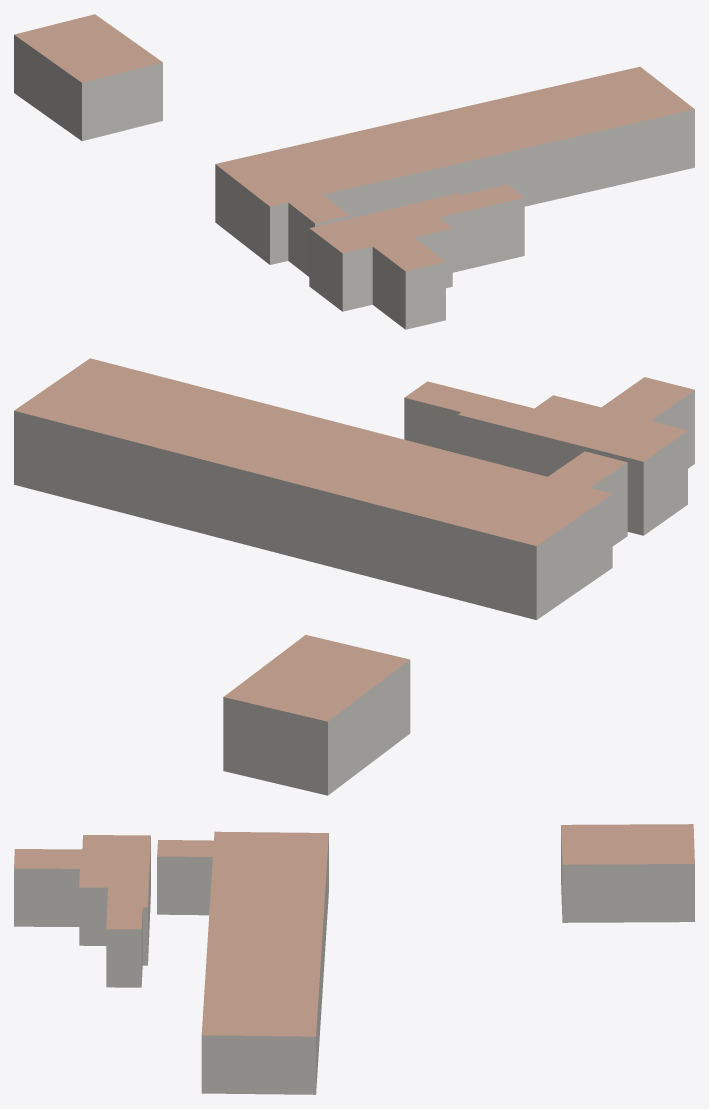
File: gridID_14.dae
3 renders of one model, top to bottom at view 1: azimuth 30°, elevation 25°; view 2: azimuth 150°, elevation 25°; view 3: azimuth 270°, elevation 25°, orthographic. The views are drawn at different scales.
Visible parts, largest first — view 1: model_gridID_14_w116940066, model_gridID_14_w116940040, model_gridID_14_w389373569; view 2: model_gridID_14_w116940066, model_gridID_14_w116940040, model_gridID_14_w389373569; view 3: model_gridID_14_w116940066, model_gridID_14_w116940040, model_gridID_14_w389373569.
Boxes of the visible parts, x1=… form: model_gridID_14_w116940066: x1=215, y1=66, x2=694, y2=276; model_gridID_14_w116940040: x1=309, y1=184, x2=524, y2=329; model_gridID_14_w389373569: x1=14, y1=14, x2=162, y2=141; model_gridID_14_w116940066: x1=14, y1=358, x2=627, y2=619; model_gridID_14_w116940040: x1=404, y1=377, x2=694, y2=535; model_gridID_14_w389373569: x1=223, y1=635, x2=410, y2=795; model_gridID_14_w116940066: x1=157, y1=831, x2=328, y2=1094; model_gridID_14_w116940040: x1=14, y1=835, x2=150, y2=987; model_gridID_14_w389373569: x1=561, y1=824, x2=694, y2=922.
Bounding box in the file's own units: 58.74 × 79.55 × 7.5.
